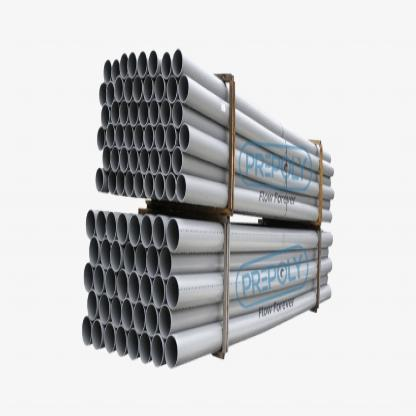PVC: (81, 47, 335, 369)
